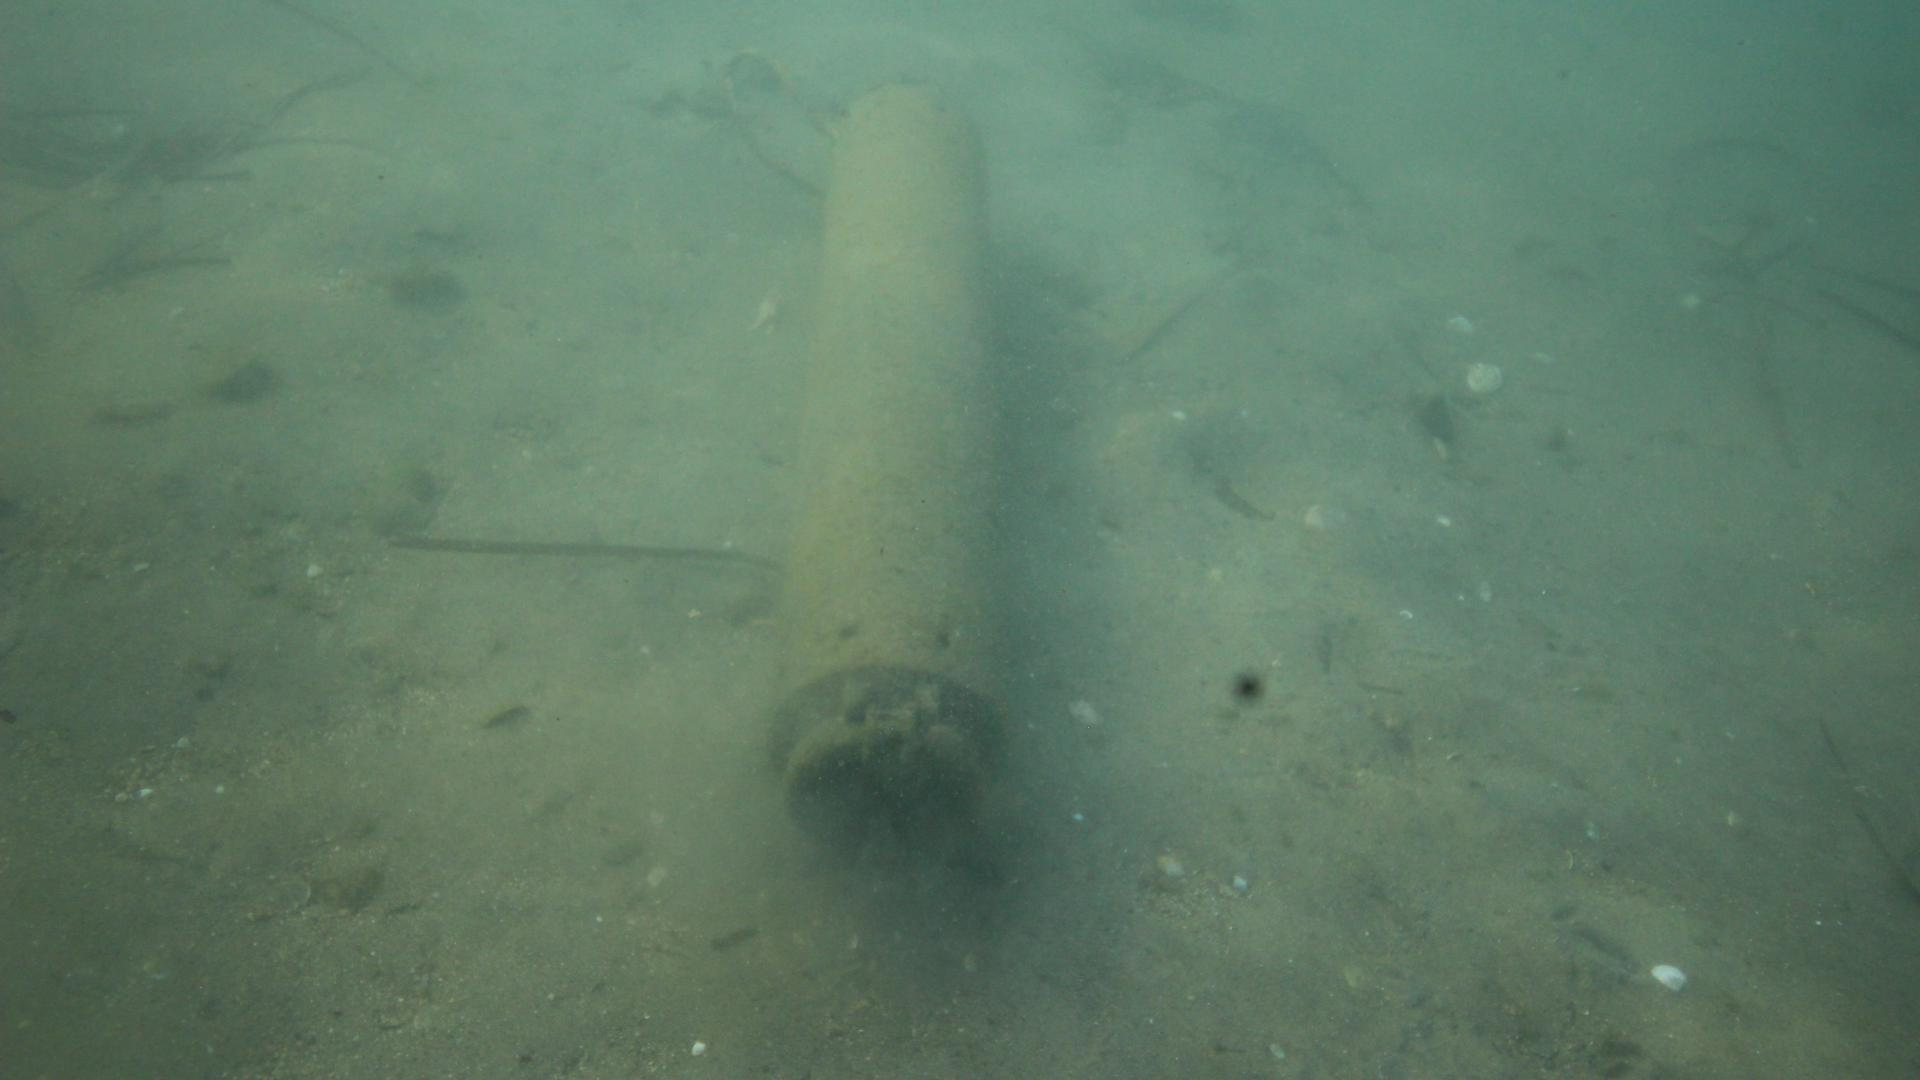eel fish trap: (767, 87, 1013, 855)
rope: (712, 44, 837, 204)
